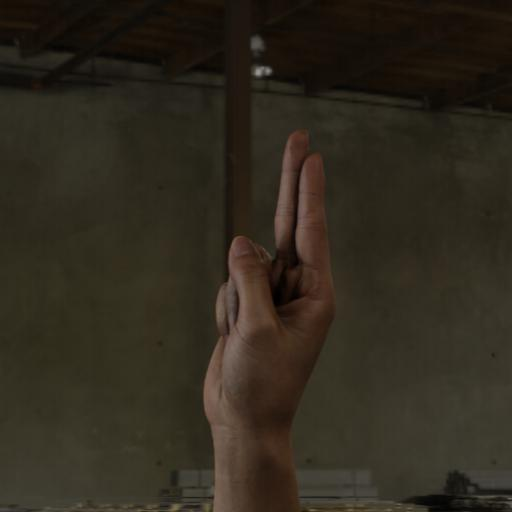U: (160, 121, 353, 512)
